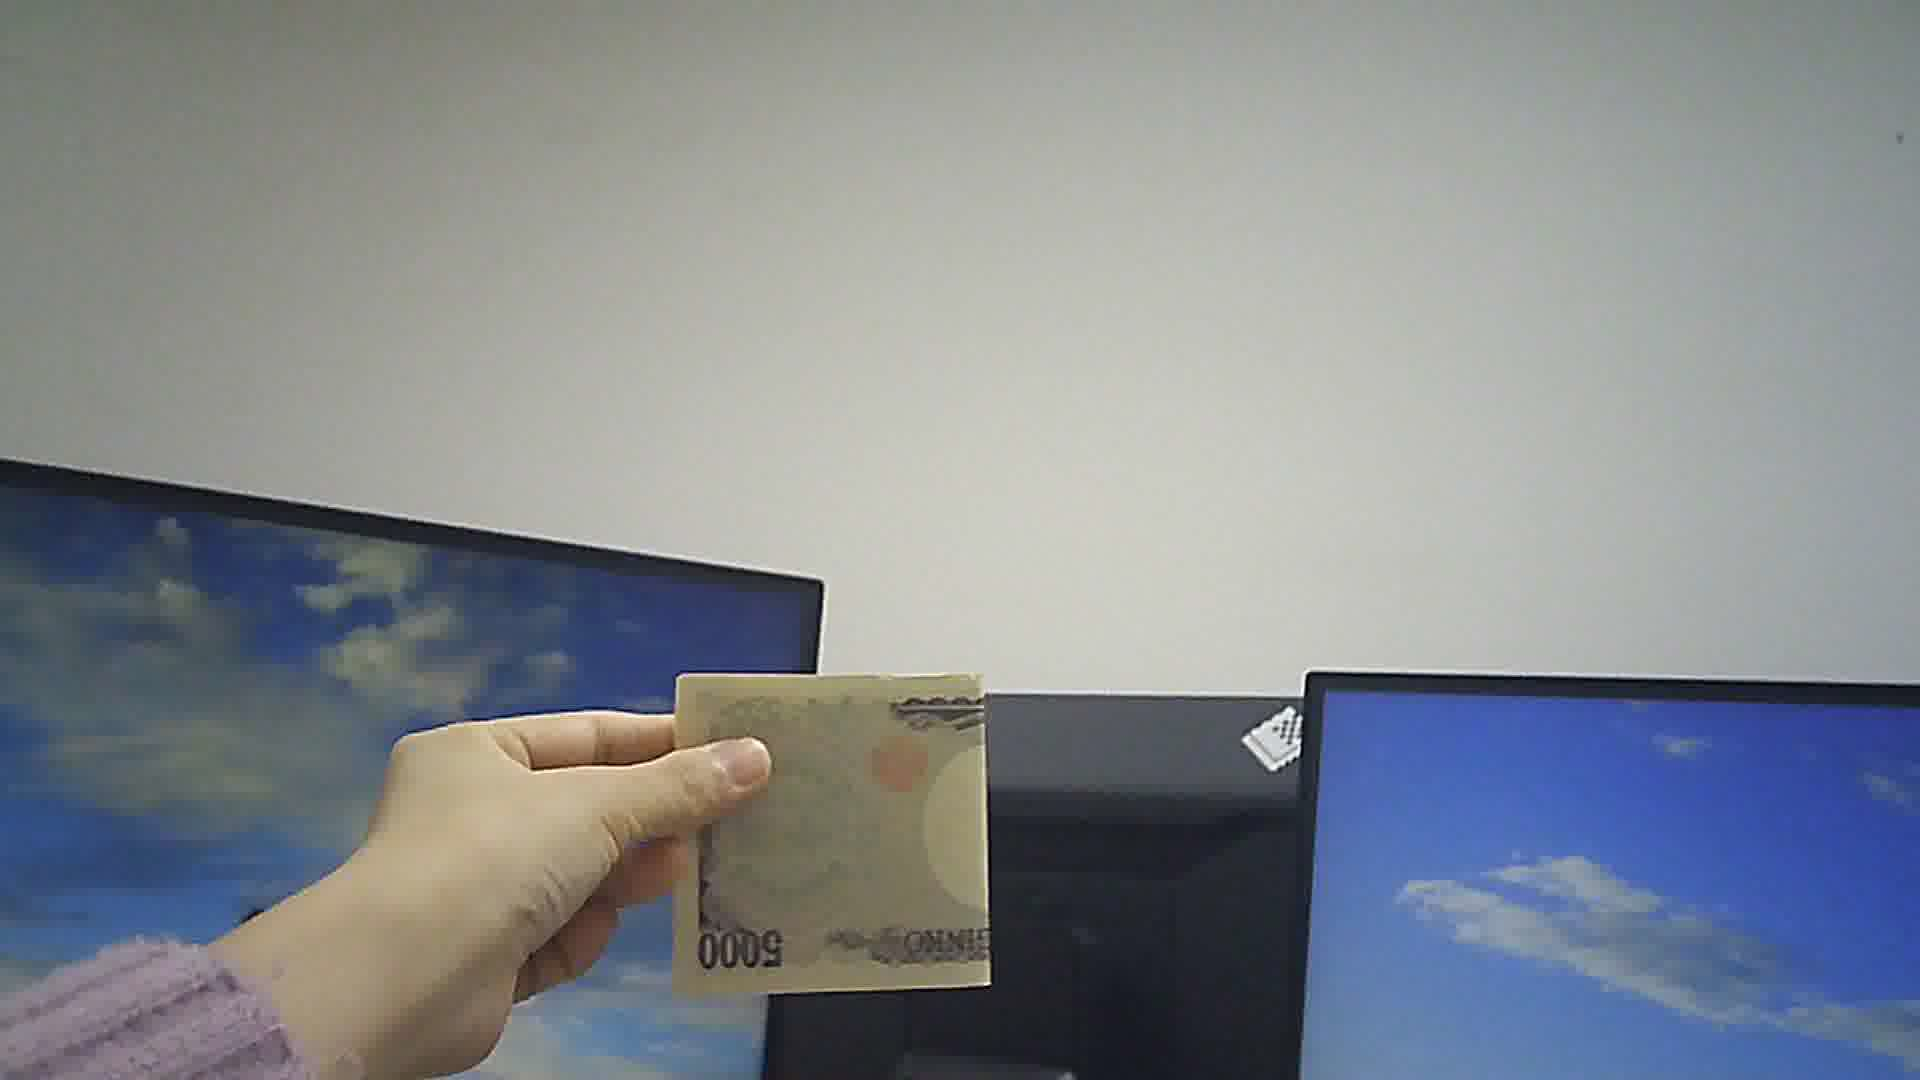5,000 Yen: (669, 663, 1023, 996)
